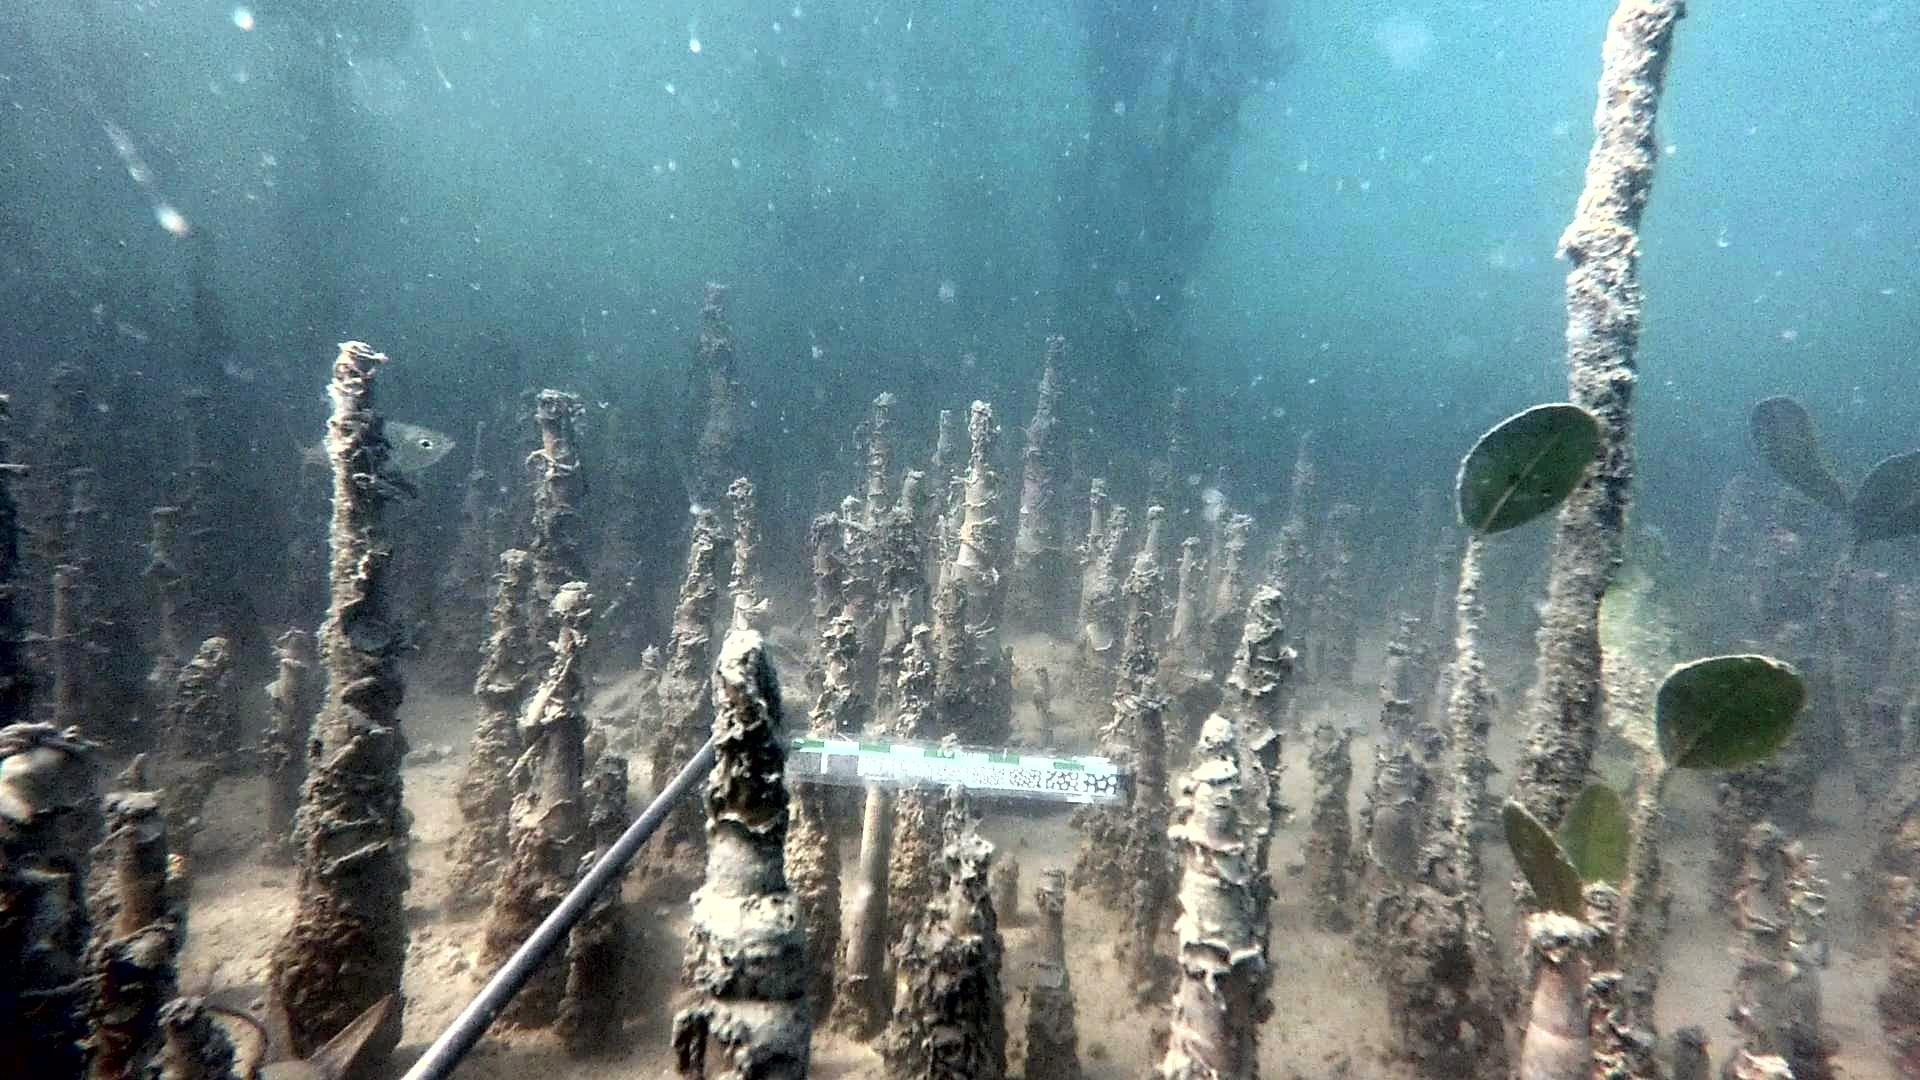gerres: (386, 416, 456, 476)
